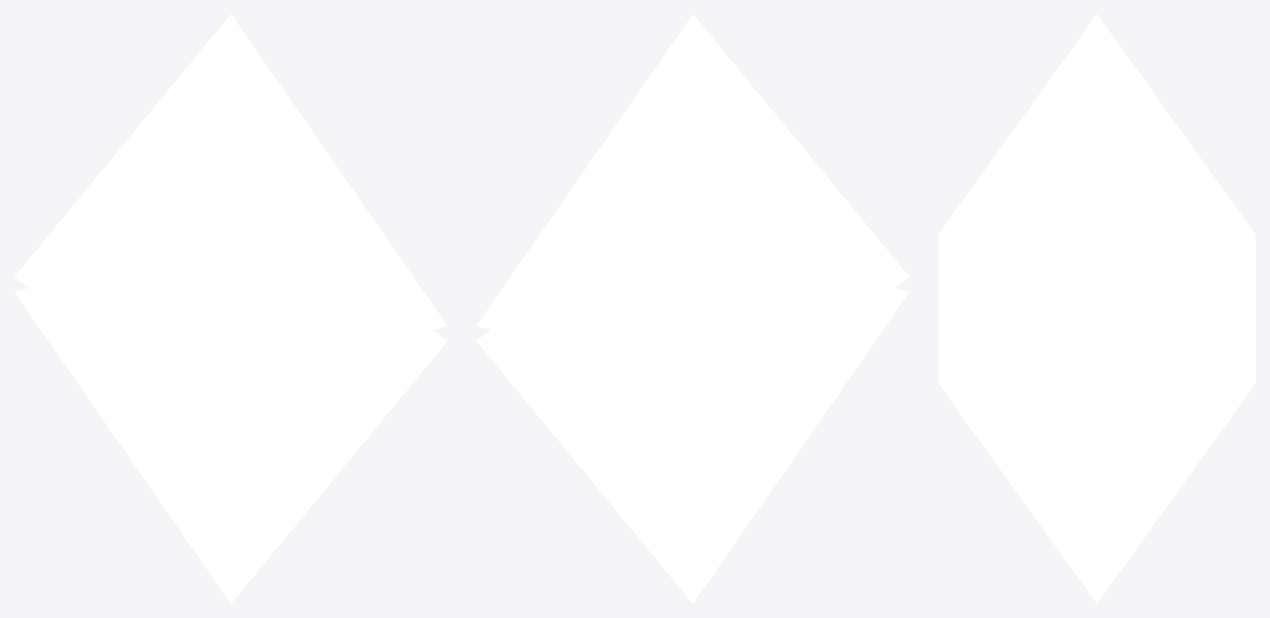
Rendered from rhombus.glb.
The picture shows the model from 3 angles, left to right: view 1: azimuth 30°, elevation 25°; view 2: azimuth 150°, elevation 25°; view 3: azimuth 270°, elevation 25°; orthographic projection.
Visible parts, largest first — view 1: piramida; view 2: piramida; view 3: piramida.
Part boxes in pixels (<box>): piramida: <box>14,14,447,603</box>; piramida: <box>476,14,909,603</box>; piramida: <box>938,14,1255,603</box>.
Size of the model in its own units: 1.02 by 2.1 by 1.02.
Materials: 1 (1 with a texture image).
